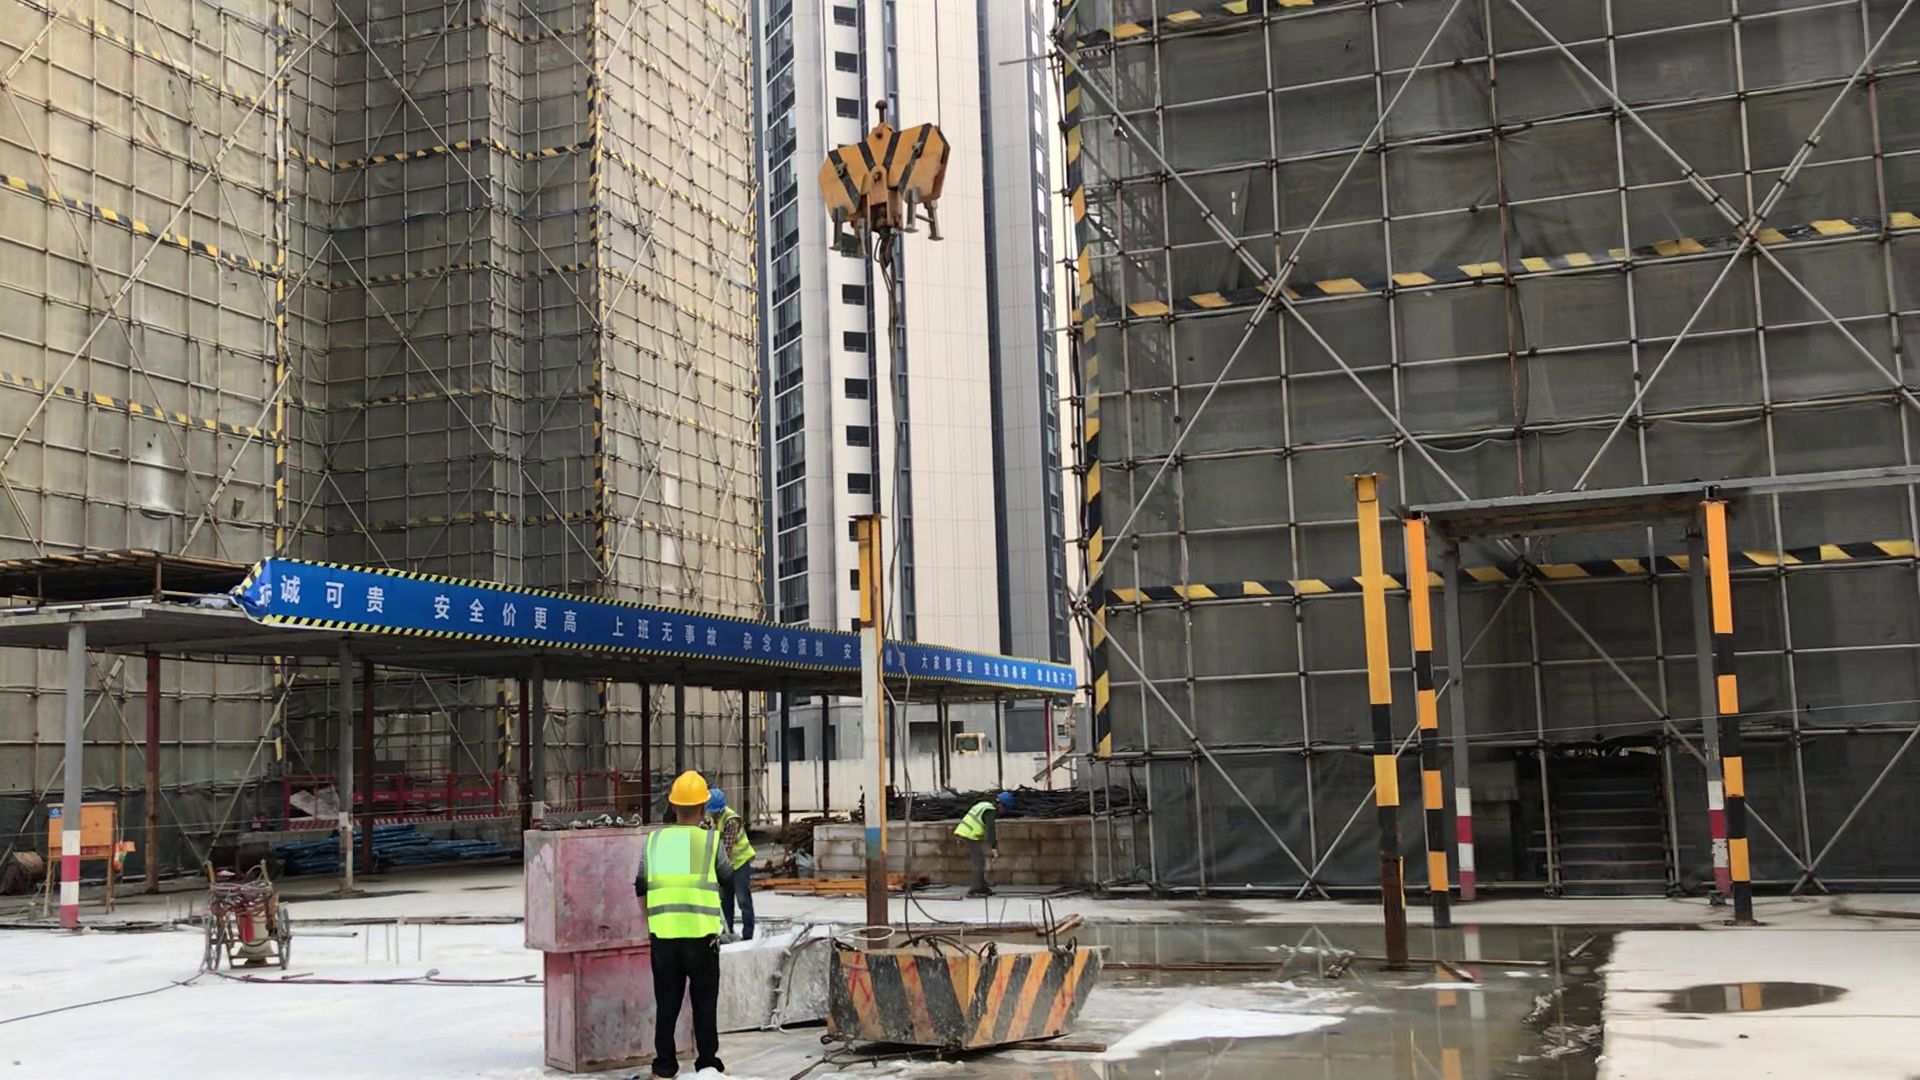ebox: (42, 800, 117, 857)
fence: (286, 769, 646, 833)
handcart: (202, 856, 292, 976)
helmet: (669, 770, 711, 806), (706, 789, 725, 809), (998, 791, 1015, 809)
hook: (820, 101, 950, 269)
hopper: (828, 938, 1111, 1056), (724, 920, 859, 1030)
person: (635, 771, 734, 1080), (700, 787, 756, 944), (952, 794, 1017, 898)
slogan: (250, 558, 1073, 701)
vest: (645, 827, 721, 938), (707, 808, 755, 872), (952, 801, 993, 842)
